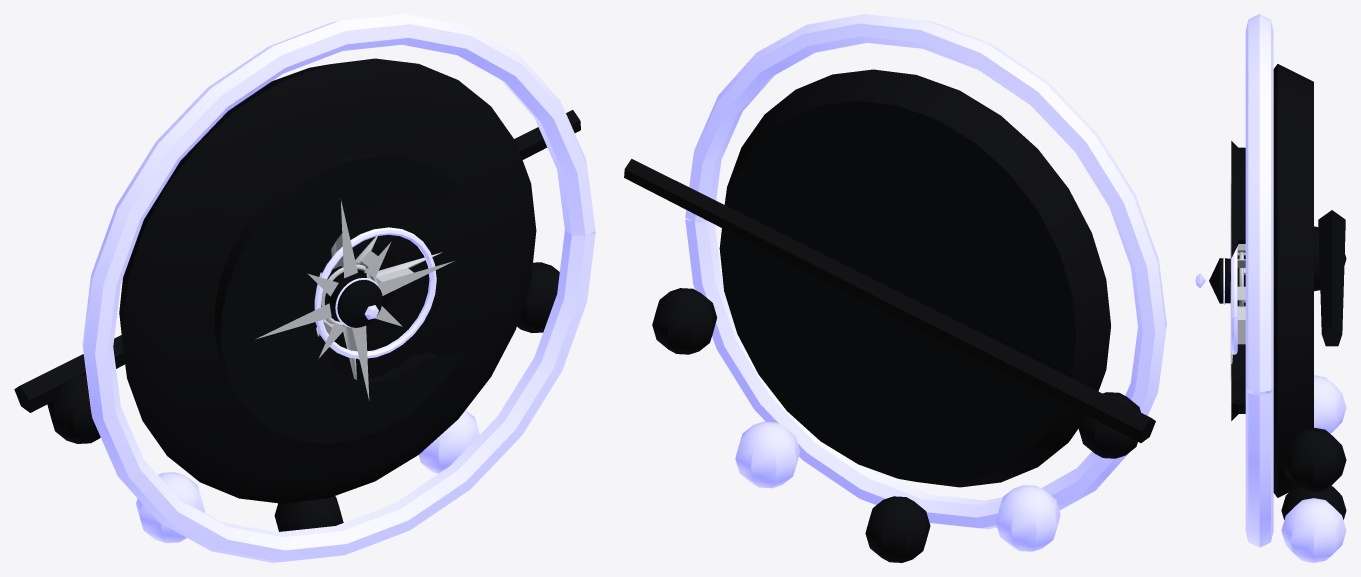
File: esc_void_silhouette_accessory.glb
3 views of the same model, side by side, from view 1: azimuth 30°, elevation 25°; view 2: azimuth 150°, elevation 25°; view 3: azimuth 270°, elevation 25° (orthographic). The views are drawn at different scales.
Parts seen in each view (by area): view 1: esc_void_silhouette_accessory; view 2: esc_void_silhouette_accessory; view 3: esc_void_silhouette_accessory.
Boxes of the visible parts, x1,y1,x2,y2 form: esc_void_silhouette_accessory: (14, 14, 595, 562); esc_void_silhouette_accessory: (624, 14, 1166, 562); esc_void_silhouette_accessory: (1195, 14, 1346, 562).
Size of the model in its own units: 0.1616 by 0.153 by 0.0417.
